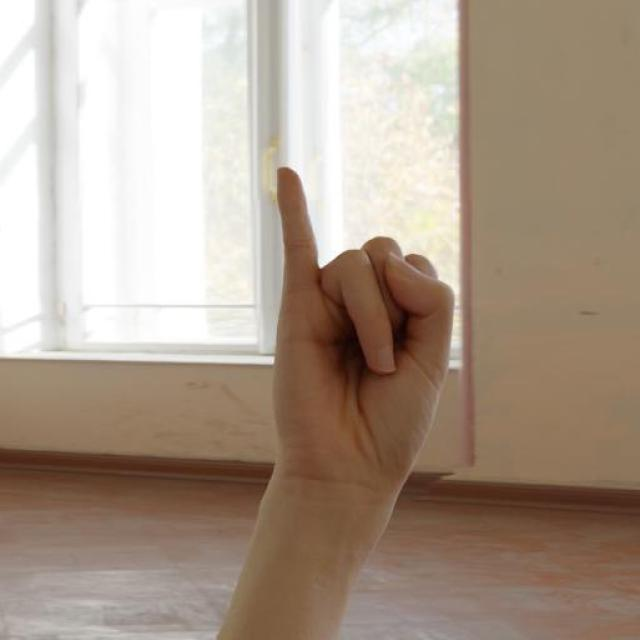I: (267, 164, 457, 462)
